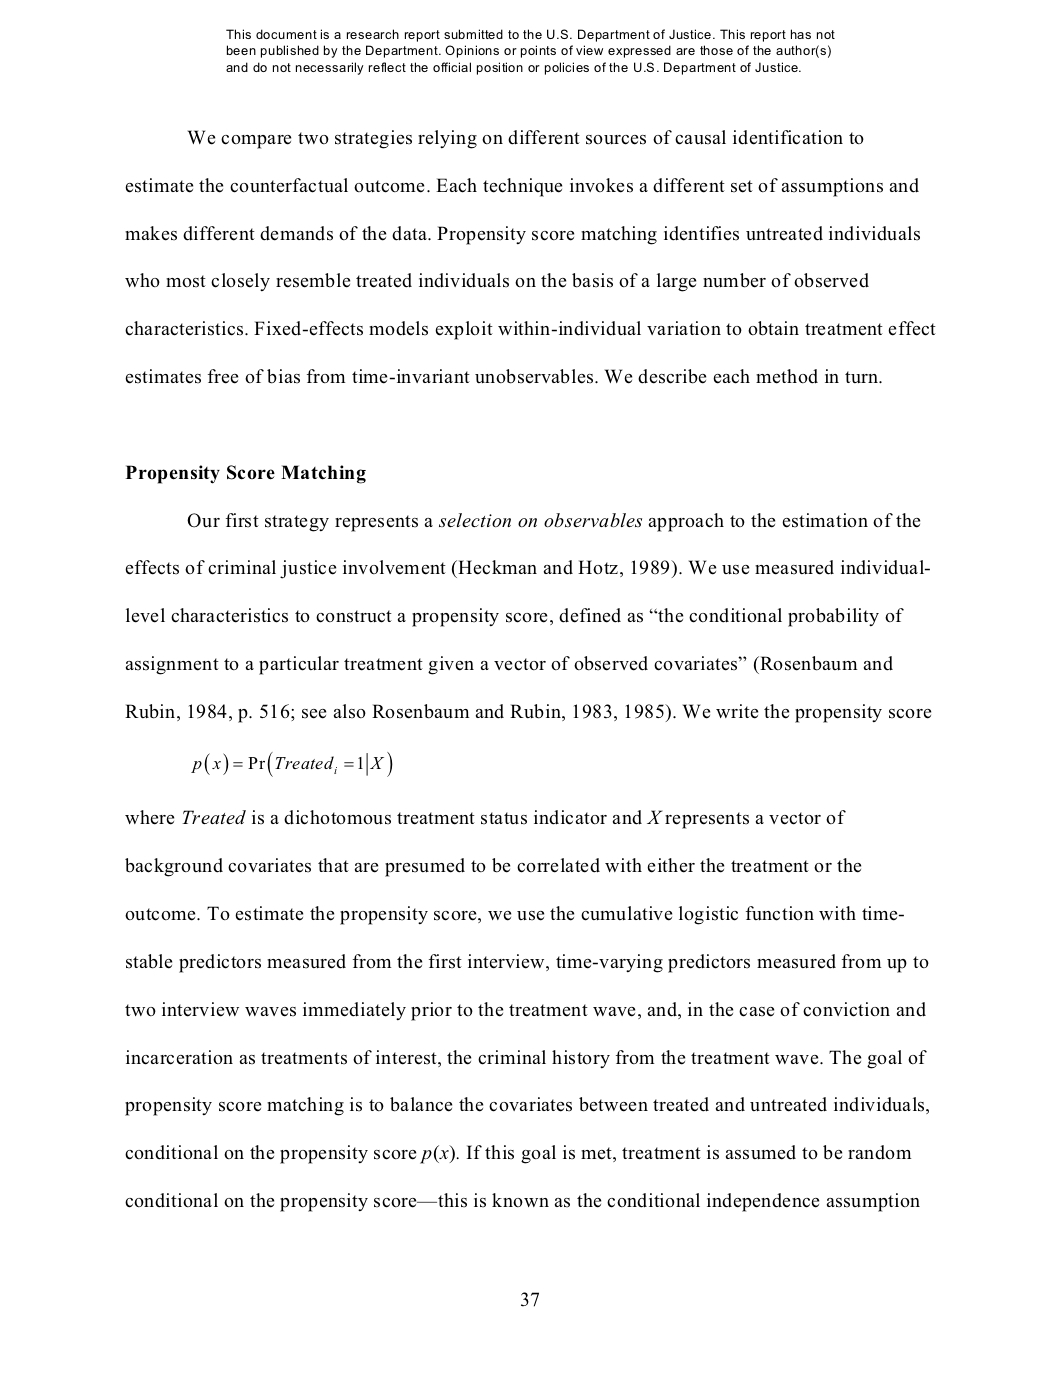formula: (191, 750, 392, 777)
